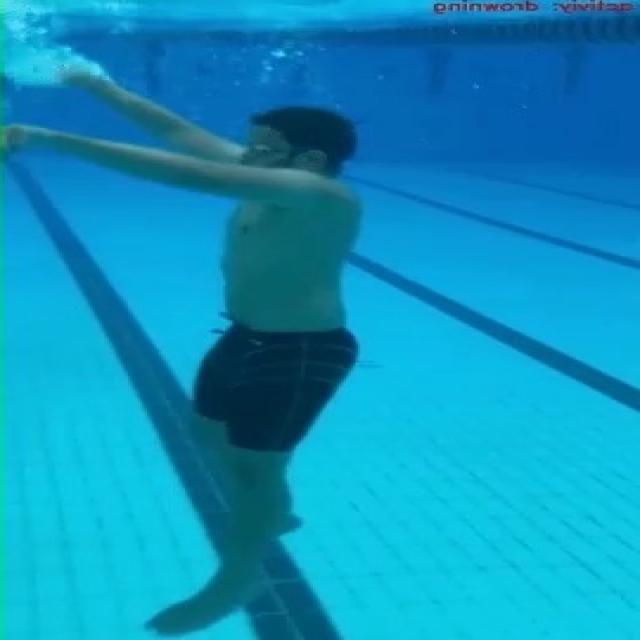drowning: (74, 59, 397, 638)
